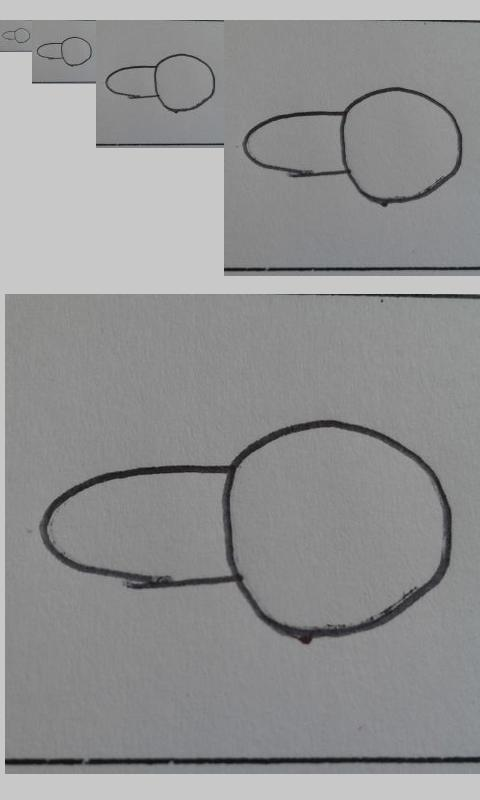switch: (39, 419, 454, 644), (242, 86, 464, 207), (104, 53, 216, 114), (36, 36, 93, 67), (1, 28, 31, 44)
